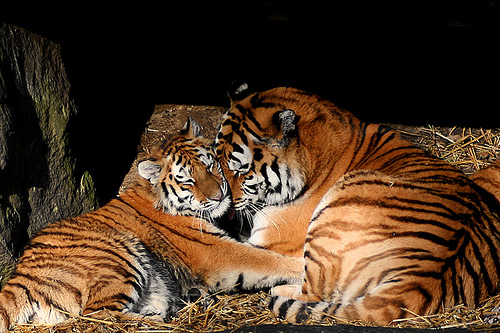Tigre: (231, 87, 487, 307), (28, 136, 235, 305)
